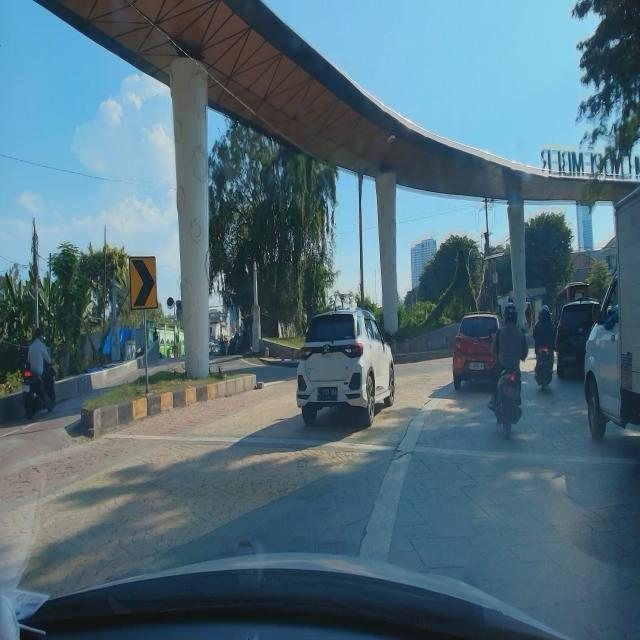car: (295, 300, 397, 428), (452, 312, 506, 390)
license-plate: (318, 387, 338, 401), (469, 362, 485, 371)
